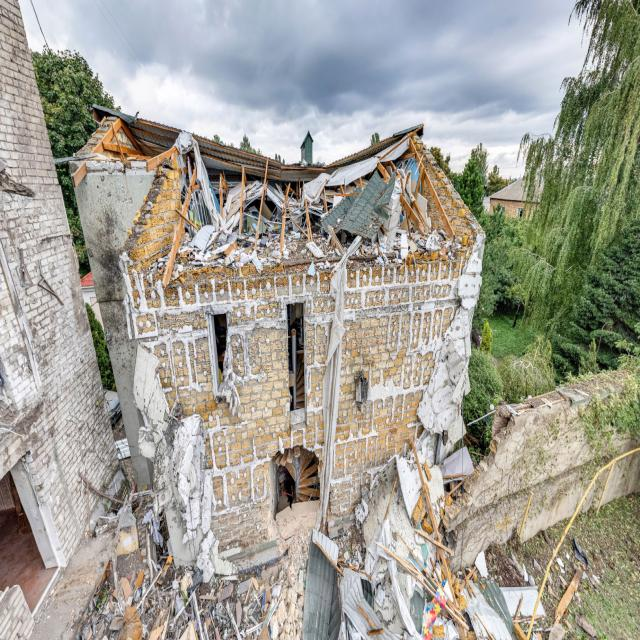broken_window: (286, 300, 306, 412)
building: (67, 105, 487, 574)
